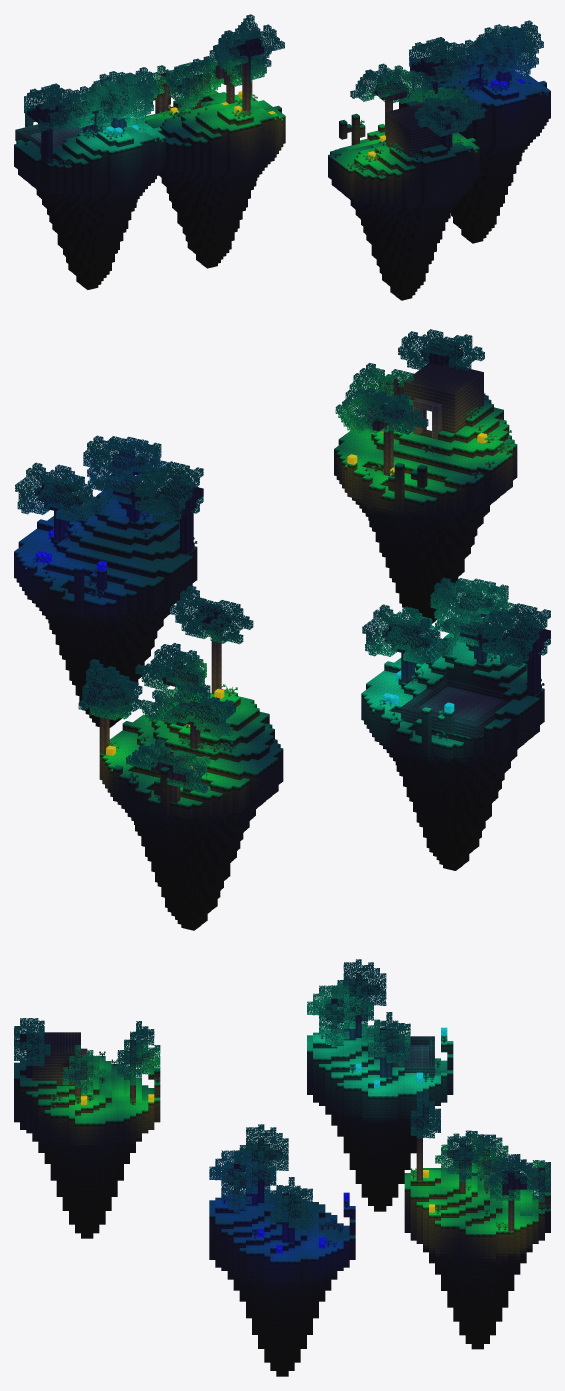
File: brittle.glb
The picture shows the model from 3 angles, top to bottom: view 1: azimuth 30°, elevation 25°; view 2: azimuth 150°, elevation 25°; view 3: azimuth 270°, elevation 25°; orthographic projection. The views are drawn at different scales.
Size of the model in its own units: 88 by 59 by 88.
2 materials, 2 textured.
